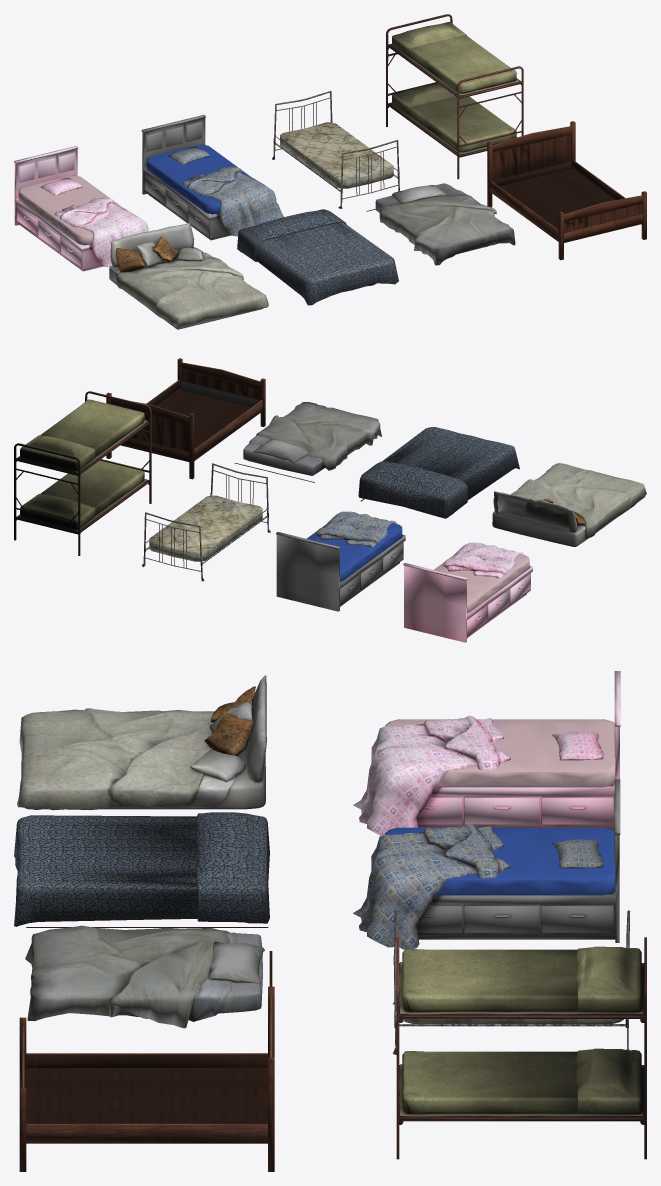
File: source_engine_beds.glb
The picture shows the model from 3 angles, top to bottom: view 1: azimuth 30°, elevation 25°; view 2: azimuth 150°, elevation 25°; view 3: azimuth 270°, elevation 25°; orthographic projection. The views are drawn at different scales.
Parts seen in each view (by area): view 1: Object_8, Object_10, Object_2, Object_7, Object_9, Object_4, Object_5, Object_6, Object_3; view 2: Object_8, Object_10, Object_2, Object_7, Object_9, Object_4, Object_3, Object_6, Object_5; view 3: Object_8, Object_10, Object_2, Object_7, Object_9, Object_5, Object_6, Object_3, Object_4.
Part boxes in pixels (x1=…): Object_8: x1=237, y1=121, x2=646, y2=305; Object_10: x1=386, y1=14, x2=523, y2=179; Object_2: x1=109, y1=222, x2=268, y2=329; Object_7: x1=141, y1=114, x2=283, y2=240; Object_9: x1=14, y1=146, x2=148, y2=271; Object_4: x1=280, y1=122, x2=393, y2=188; Object_5: x1=146, y1=144, x2=250, y2=214; Object_6: x1=19, y1=175, x2=122, y2=245; Object_3: x1=272, y1=90, x2=399, y2=208; Object_8: x1=106, y1=358, x2=519, y2=518; Object_10: x1=14, y1=391, x2=151, y2=555; Object_2: x1=492, y1=463, x2=646, y2=546; Object_7: x1=276, y1=511, x2=405, y2=611; Object_9: x1=403, y1=542, x2=532, y2=642; Object_4: x1=149, y1=495, x2=262, y2=561; Object_3: x1=142, y1=463, x2=270, y2=581; Object_6: x1=434, y1=554, x2=529, y2=612; Object_5: x1=307, y1=523, x2=402, y2=581; Object_8: x1=14, y1=812, x2=274, y2=1171; Object_10: x1=396, y1=937, x2=646, y2=1159; Object_2: x1=17, y1=675, x2=266, y2=810; Object_7: x1=353, y1=779, x2=620, y2=949; Object_9: x1=353, y1=671, x2=620, y2=835; Object_5: x1=385, y1=827, x2=615, y2=895; Object_6: x1=385, y1=719, x2=615, y2=787; Object_3: x1=392, y1=910, x2=630, y2=1054; Object_4: x1=403, y1=1019, x2=623, y2=1023.
Size of the model in its own units: 9.28 by 1.88 by 6.21.
9 materials, 9 textured.
